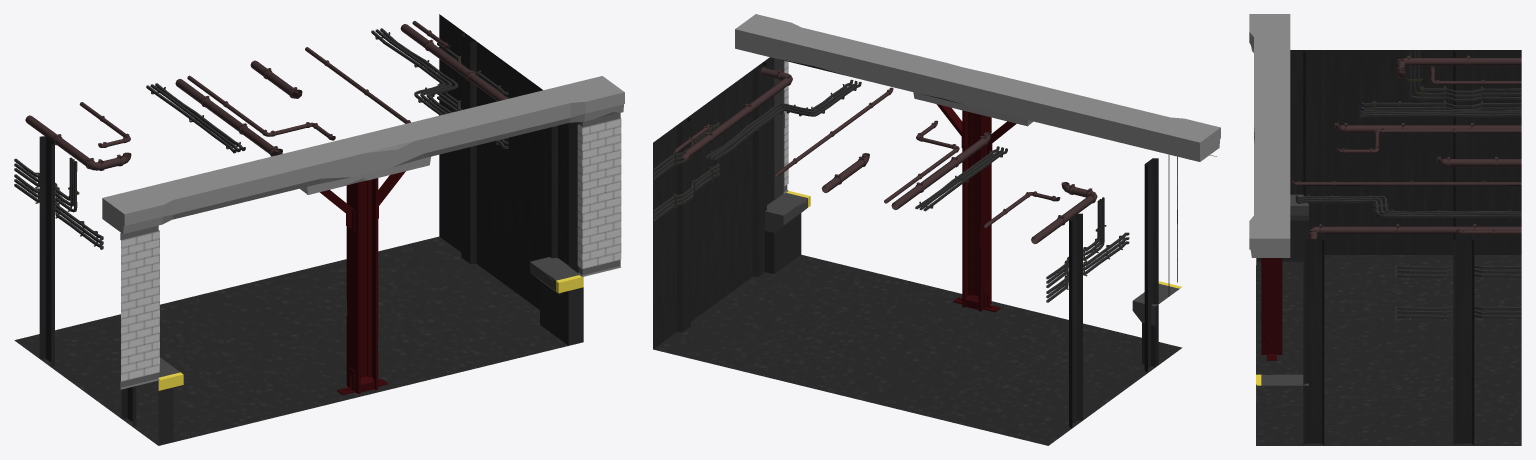
The model's file is SW_ENV_RailTunnel_EntranceDouble_02_FF.fbx.
3 views of the same model, side by side, from view 1: azimuth 30°, elevation 25°; view 2: azimuth 150°, elevation 25°; view 3: azimuth 270°, elevation 25° (orthographic). The views are drawn at different scales.
Parts seen in each view (by area): view 1: SW_ENV_RailTunnel_EntranceDouble_02_FF; view 2: SW_ENV_RailTunnel_EntranceDouble_02_FF; view 3: SW_ENV_RailTunnel_EntranceDouble_02_FF.
Part boxes in pixels (x1=…): SW_ENV_RailTunnel_EntranceDouble_02_FF: x1=14, y1=14, x2=624, y2=445; SW_ENV_RailTunnel_EntranceDouble_02_FF: x1=653, y1=14, x2=1220, y2=445; SW_ENV_RailTunnel_EntranceDouble_02_FF: x1=1249, y1=14, x2=1521, y2=445.
Bounding box in the file's own units: 10 × 4.65 × 5.13.
